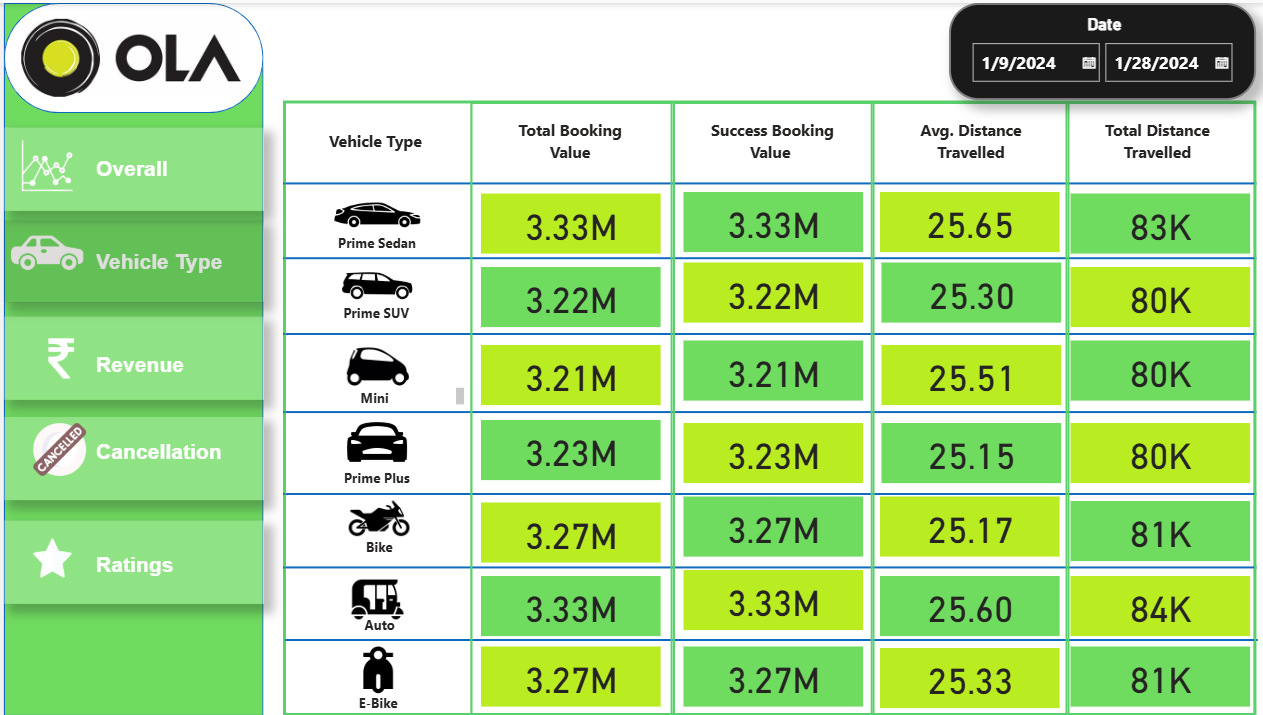

This screenshot's page, from the dashboard's own definition file:
{"tool":"powerbi","page":{"name":"Vehicle Type","canvas":[1280,720],"ordinal":1},"visuals":[{"type":"shape","box":[0,0,261.9,720.6],"z":0},{"type":"shape","box":[0,0,261.9,111.1],"z":1000},{"type":"image","box":[12.7,0,231.7,111.1],"z":2000},{"type":"image","box":[0,133.3,87.3,61.9],"z":3000},{"type":"textbox","box":[87.3,149.2,104.8,46],"z":4000},{"type":"textbox","box":[87.3,244.4,157.1,54],"z":5000},{"type":"textbox","box":[87.3,347.6,174.6,36.5],"z":6000},{"type":"textbox","box":[87.3,436.5,146,39.7],"z":7000},{"type":"textbox","box":[87.3,549.2,174.6,41.3],"z":8000},{"type":"image","box":[0,214.3,87.3,84.1],"z":9000},{"type":"image","box":[0,333.3,115.9,50.8],"z":10000},{"type":"image","box":[23.8,412.7,63.5,74.6],"z":11000},{"type":"image","box":[23.8,530.2,49.2,60.3],"z":12000},{"type":"shape","box":[281,98.4,982.5,622.2],"z":13000},{"type":"shape","box":[281,173,982.5,19],"z":14000},{"type":"shape","box":[281,328.6,982.5,11.1],"z":15000},{"type":"shape","box":[281,406.3,982.5,14.3],"z":16000},{"type":"shape","box":[281,484.1,982.5,22.2],"z":17000},{"type":"shape","box":[281,252.4,982.5,9.5],"z":18000},{"type":"shape","box":[281,560.3,982.5,19],"z":19000},{"type":"shape","box":[282.5,638.1,982.5,11.1],"z":20000},{"type":"shape","box":[282.5,100,188.9,620.6],"z":21000},{"type":"shape","box":[471.2,100.4,204,620.2],"z":22000},{"type":"shape","box":[674.6,100,201.6,620.6],"z":23000},{"type":"shape","box":[876.2,100,196.8,620.6],"z":24000},{"type":"shape","box":[1073,100,190.5,620.6],"z":25000},{"type":"image","box":[338.4,406.4,77.7,74.5],"z":26000},{"type":"image","box":[346.5,638,61.5,71.2],"z":27000},{"type":"image","box":[281.7,244.5,189.4,82.6],"z":28000},{"type":"image","box":[312.5,158.7,129.5,103.6],"z":29000},{"type":"image","box":[340,320.6,72.9,92.3],"z":30000},{"type":"image","box":[335.2,484.1,87.4,71.2],"z":31000},{"type":"image","box":[343.3,565.1,66.4,74.5],"z":32000},{"type":"textbox","box":[282.2,227.5,673.9,30.8],"z":33000},{"type":"textbox","box":[283.4,691.4,189.4,29.1],"z":34000},{"type":"textbox","box":[293.1,297.9,166.8,35.6],"z":35000},{"type":"textbox","box":[281.7,383.8,187.8,27.5],"z":36000},{"type":"textbox","box":[291.5,459.9,178.1,35.6],"z":37000},{"type":"textbox","box":[283.4,529.5,195.9,40.5],"z":38000},{"type":"textbox","box":[281.7,607.2,187.8,37.2],"z":39000},{"type":"textbox","box":[291.5,111.7,168.4,61.5],"z":40000},{"type":"textbox","box":[479.3,111.7,183,59.9],"z":41000},{"type":"textbox","box":[688.2,111.7,176.5,61.5],"z":42000},{"type":"textbox","box":[890.6,111.7,171.6,59.9],"z":43000},{"type":"textbox","box":[1084.9,111.7,160.3,62],"z":44000},{"type":"card","fields":{"Values":["Sum(indore ola dataset(1).Booking Value)"]},"box":[481.9,192.8,181.4,60.5],"z":45000},{"type":"actionButton","box":[0,523,262.3,84.2],"z":46000},{"type":"actionButton","box":[0,315.7,262.3,84.2],"z":47000},{"type":"actionButton","box":[0,417.8,262.3,84.2],"z":48000},{"type":"actionButton","box":[0,126.3,262.3,84.2],"z":49000},{"type":"actionButton","box":[0,220.2,262.3,82.6],"z":50000},{"type":"card","fields":{"Values":["Sum(indore ola dataset(1).Booking Value)"]},"box":[481.9,266.5,181.4,60.5],"z":51000},{"type":"card","fields":{"Values":["Sum(indore ola dataset(1).Booking Value)"]},"box":[481.9,345.8,181.4,60.5],"z":52000},{"type":"card","fields":{"Values":["Sum(indore ola dataset(1).Booking Value)"]},"box":[481.9,421.4,181.4,60.5],"z":53000},{"type":"card","fields":{"Values":["Sum(indore ola dataset(1).Booking Value)"]},"box":[481.9,504.6,181.4,60.5],"z":54000},{"type":"card","fields":{"Values":["Sum(indore ola dataset(1).Booking Value)"]},"box":[481.9,578.3,181.4,60.5],"z":55000},{"type":"card","fields":{"Values":["Sum(indore ola dataset(1).Booking Value)"]},"box":[481.9,650.1,181.4,60.5],"z":56000},{"type":"card","fields":{"Values":["Sum(indore ola dataset(1).Booking Value)"]},"box":[686,190.9,181.4,60.5],"z":57000},{"type":"card","fields":{"Values":["Sum(indore ola dataset(1).Booking Value)"]},"box":[686,262.7,181.4,60.5],"z":58000},{"type":"card","fields":{"Values":["Sum(indore ola dataset(1).Booking Value)"]},"box":[686,340.2,181.4,60.5],"z":59000},{"type":"card","fields":{"Values":["Sum(indore ola dataset(1).Booking Value)"]},"box":[686,423.3,181.4,60.5],"z":60000},{"type":"card","fields":{"Values":["Sum(indore ola dataset(1).Booking Value)"]},"box":[686,498.9,181.4,60.5],"z":61000},{"type":"card","fields":{"Values":["Sum(indore ola dataset(1).Booking Value)"]},"box":[686,572.6,181.4,60.5],"z":62000},{"type":"card","fields":{"Values":["Sum(indore ola dataset(1).Booking Value)"]},"box":[686,650.1,181.4,60.5],"z":63000},{"type":"card","fields":{"Values":["Avg(indore ola dataset(1).Ride Distance)"]},"box":[884.4,190.9,181.4,60.5],"z":64000},{"type":"card","fields":{"Values":["Avg(indore ola dataset(1).Ride Distance)"]},"box":[886.3,262.7,181.4,60.5],"z":65000},{"type":"card","fields":{"Values":["Avg(indore ola dataset(1).Ride Distance)"]},"box":[886.3,345.8,181.4,60.5],"z":66000},{"type":"card","fields":{"Values":["Avg(indore ola dataset(1).Ride Distance)"]},"box":[886.3,423.3,181.4,60.5],"z":67000},{"type":"card","fields":{"Values":["Avg(indore ola dataset(1).Ride Distance)"]},"box":[884.4,498.9,181.4,60.5],"z":68000},{"type":"card","fields":{"Values":["Avg(indore ola dataset(1).Ride Distance)"]},"box":[884.4,578.3,181.4,60.5],"z":69000},{"type":"card","fields":{"Values":["Avg(indore ola dataset(1).Ride Distance)"]},"box":[883.7,650.7,181.4,60.5],"z":70000},{"type":"card","fields":{"Values":["Sum(indore ola dataset(1).Ride Distance)"]},"box":[1077.2,192.8,181.4,60.5],"z":71000},{"type":"card","fields":{"Values":["Sum(indore ola dataset(1).Ride Distance)"]},"box":[1077.2,266.5,181.4,60.5],"z":72000},{"type":"card","fields":{"Values":["Sum(indore ola dataset(1).Ride Distance)"]},"box":[1077.2,340.2,181.4,60.5],"z":73000},{"type":"card","fields":{"Values":["Sum(indore ola dataset(1).Ride Distance)"]},"box":[1077.2,423.3,181.4,60.5],"z":74000},{"type":"card","fields":{"Values":["Sum(indore ola dataset(1).Ride Distance)"]},"box":[1077.2,502.7,181.4,60.5],"z":75000},{"type":"card","fields":{"Values":["Sum(indore ola dataset(1).Ride Distance)"]},"box":[1077.2,578.3,181.4,60.5],"z":76000},{"type":"card","fields":{"Values":["Sum(indore ola dataset(1).Ride Distance)"]},"box":[1077.2,650.1,181.4,60.5],"z":77000},{"type":"slicer","title":"Date","fields":{"Values":["indore ola dataset(1).Date"]},"box":[954.3,0,309.9,98.3],"z":78000}]}

Visuals, with their boxes in screenshot pixels (x1, y1, x2, y2), scaled from the page's 1280x720 canvas onto the 1263x715 screenshot:
shape: 0/0/258/714
shape: 0/0/258/110
image: 13/0/241/110
image: 0/132/86/194
textbox: 86/148/190/194
textbox: 86/243/241/296
textbox: 86/345/258/381
textbox: 86/433/230/473
textbox: 86/545/258/586
image: 0/213/86/296
image: 0/331/114/381
image: 23/410/86/484
image: 23/527/72/586
shape: 277/98/1247/714
shape: 277/172/1247/191
shape: 277/326/1247/337
shape: 277/403/1247/418
shape: 277/481/1247/503
shape: 277/251/1247/260
shape: 277/556/1247/575
shape: 279/634/1248/645
shape: 279/99/465/714
shape: 465/100/666/714
shape: 666/99/865/714
shape: 865/99/1059/714
shape: 1059/99/1247/714
image: 334/404/411/478
image: 342/634/403/704
image: 278/243/465/325
image: 308/158/436/260
image: 335/318/407/410
image: 331/481/417/551
image: 339/561/404/635
textbox: 278/226/943/257
textbox: 280/687/467/714
textbox: 289/296/454/331
textbox: 278/381/463/408
textbox: 288/457/463/492
textbox: 280/526/473/566
textbox: 278/603/463/640
textbox: 288/111/454/172
textbox: 473/111/654/170
textbox: 679/111/853/172
textbox: 879/111/1048/170
textbox: 1070/111/1229/172
card - Sum(indore ola dataset(1).Booking Value): 475/191/654/252
actionButton: 0/519/259/603
actionButton: 0/314/259/397
actionButton: 0/415/259/499
actionButton: 0/125/259/209
actionButton: 0/219/259/301
card - Sum(indore ola dataset(1).Booking Value): 475/265/654/325
card - Sum(indore ola dataset(1).Booking Value): 475/343/654/403
card - Sum(indore ola dataset(1).Booking Value): 475/418/654/479
card - Sum(indore ola dataset(1).Booking Value): 475/501/654/561
card - Sum(indore ola dataset(1).Booking Value): 475/574/654/634
card - Sum(indore ola dataset(1).Booking Value): 475/646/654/706
card - Sum(indore ola dataset(1).Booking Value): 677/190/856/250
card - Sum(indore ola dataset(1).Booking Value): 677/261/856/321
card - Sum(indore ola dataset(1).Booking Value): 677/338/856/398
card - Sum(indore ola dataset(1).Booking Value): 677/420/856/480
card - Sum(indore ola dataset(1).Booking Value): 677/495/856/556
card - Sum(indore ola dataset(1).Booking Value): 677/569/856/629
card - Sum(indore ola dataset(1).Booking Value): 677/646/856/706
card - Avg(indore ola dataset(1).Ride Distance): 873/190/1052/250
card - Avg(indore ola dataset(1).Ride Distance): 875/261/1054/321
card - Avg(indore ola dataset(1).Ride Distance): 875/343/1054/403
card - Avg(indore ola dataset(1).Ride Distance): 875/420/1054/480
card - Avg(indore ola dataset(1).Ride Distance): 873/495/1052/556
card - Avg(indore ola dataset(1).Ride Distance): 873/574/1052/634
card - Avg(indore ola dataset(1).Ride Distance): 872/646/1051/706
card - Sum(indore ola dataset(1).Ride Distance): 1063/191/1242/252
card - Sum(indore ola dataset(1).Ride Distance): 1063/265/1242/325
card - Sum(indore ola dataset(1).Ride Distance): 1063/338/1242/398
card - Sum(indore ola dataset(1).Ride Distance): 1063/420/1242/480
card - Sum(indore ola dataset(1).Ride Distance): 1063/499/1242/559
card - Sum(indore ola dataset(1).Ride Distance): 1063/574/1242/634
card - Sum(indore ola dataset(1).Ride Distance): 1063/646/1242/706
"Date" slicer: 942/0/1247/98
